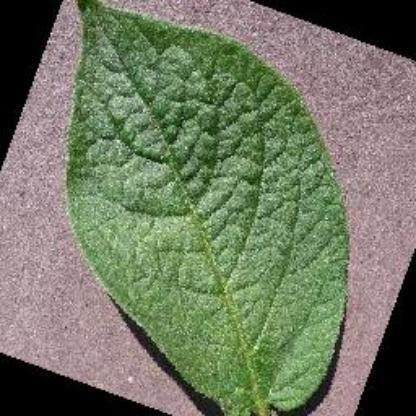Healthy-plant: (61, 2, 362, 413)
